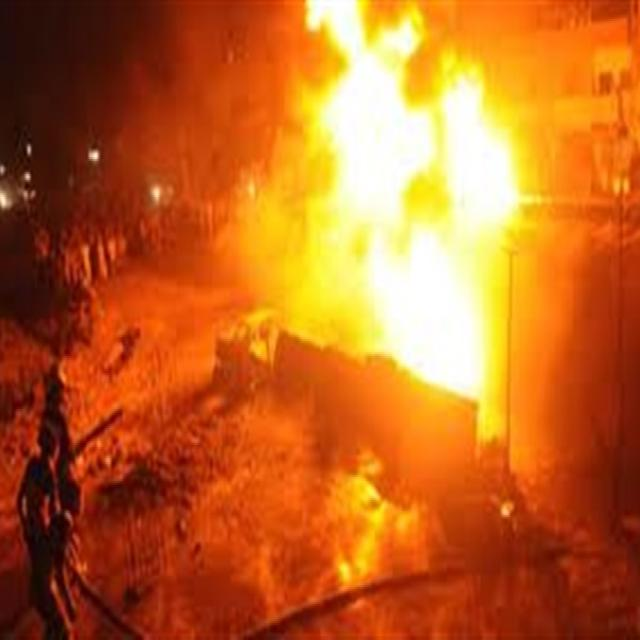fire: (203, 26, 572, 608)
